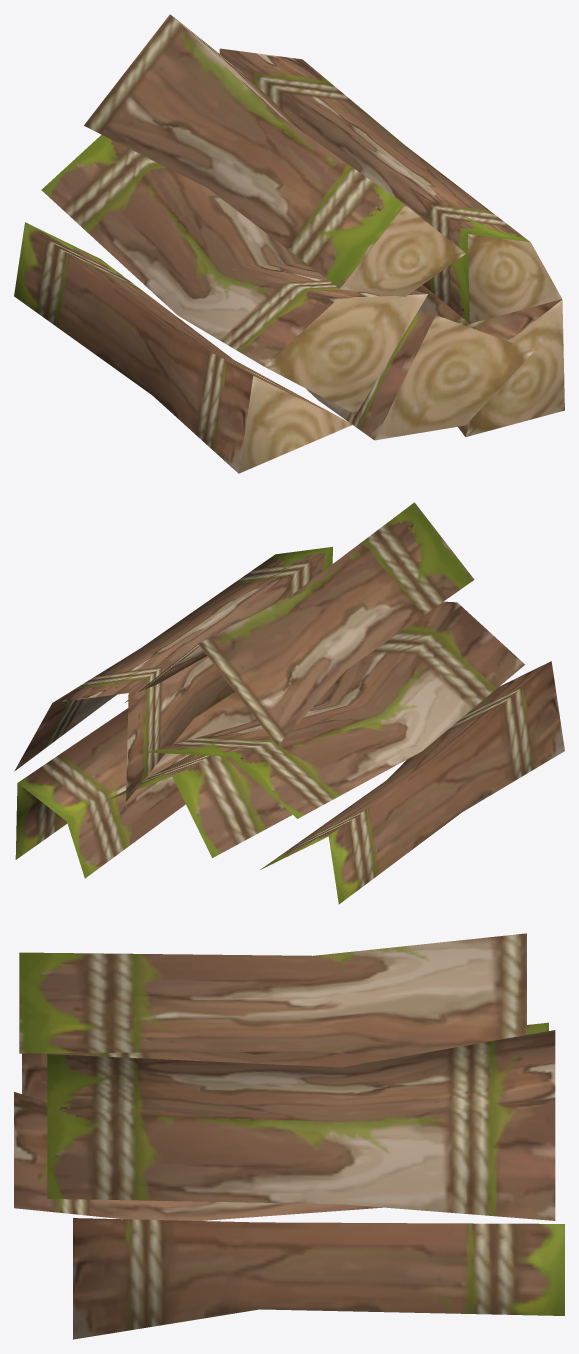
File: Map_08_wooden09.FBX
3 renders of one model, top to bottom at view 1: azimuth 30°, elevation 25°; view 2: azimuth 150°, elevation 25°; view 3: azimuth 270°, elevation 25°, orthographic. The views are drawn at different scales.
Parts seen in each view (by area): view 1: Map_08_wooden09; view 2: Map_08_wooden09; view 3: Map_08_wooden09.
Boxes of the visible parts, x1,y1,x2,y2 form: Map_08_wooden09: (14, 14, 564, 473); Map_08_wooden09: (14, 502, 564, 904); Map_08_wooden09: (14, 933, 564, 1339).
Bounding box in the file's own units: 60.51 × 47.42 × 75.9.
Materials: 1 (1 with a texture image).
